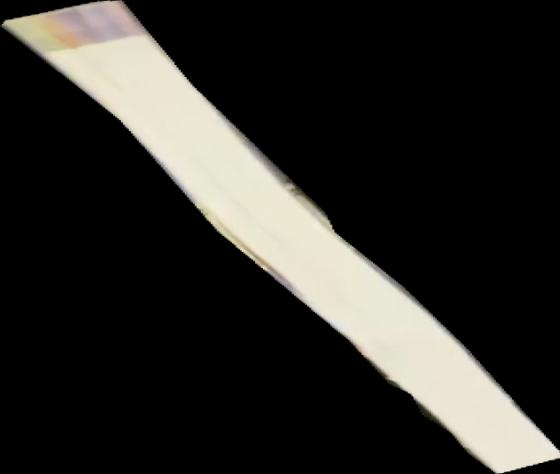backward: (1, 1, 560, 474)
